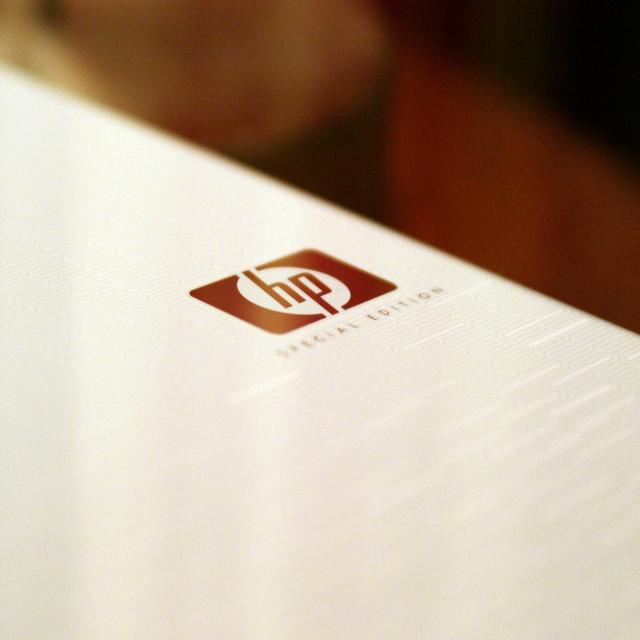HP: (187, 245, 398, 337)
